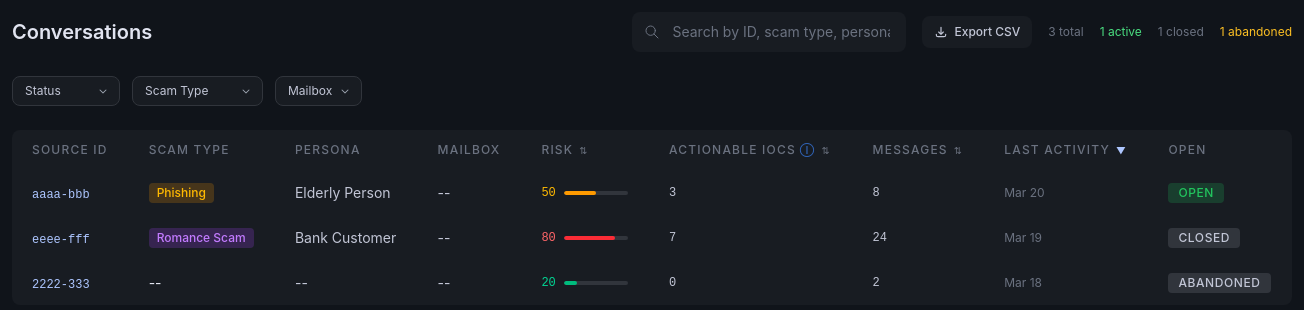
Test: Conversations page — coverage gaps › shows filter summary text when filters are active
This screenshot has width=1304, height=310.
Expected: the link "aaaa-bbb" is shown, 32,188 -> 90,202
In the field named "Search conversations": (770, 32) 632,12 -> 906,52, type "aaaa"
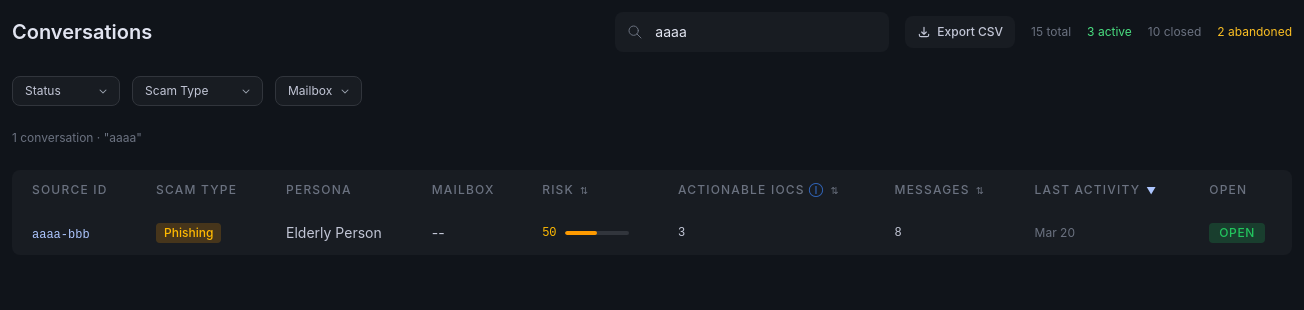
Expected: the text "1 conversation · \"aaaa\"" is shown, 12,130 -> 142,145
